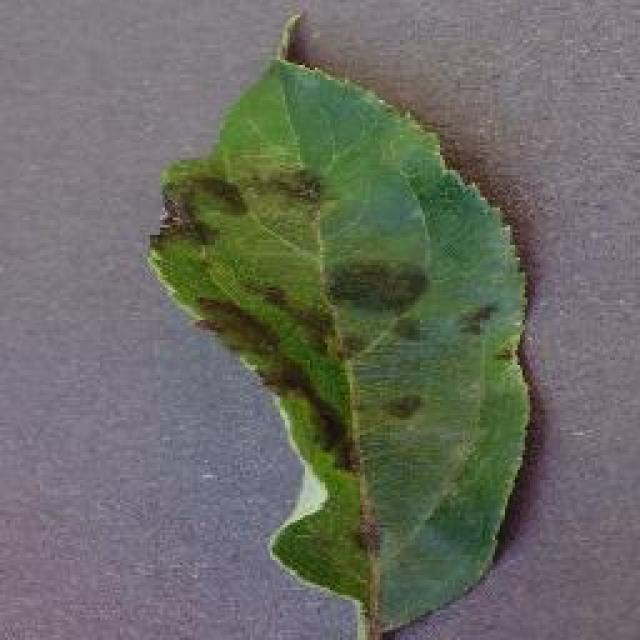apple scab disease: (143, 8, 535, 638)
